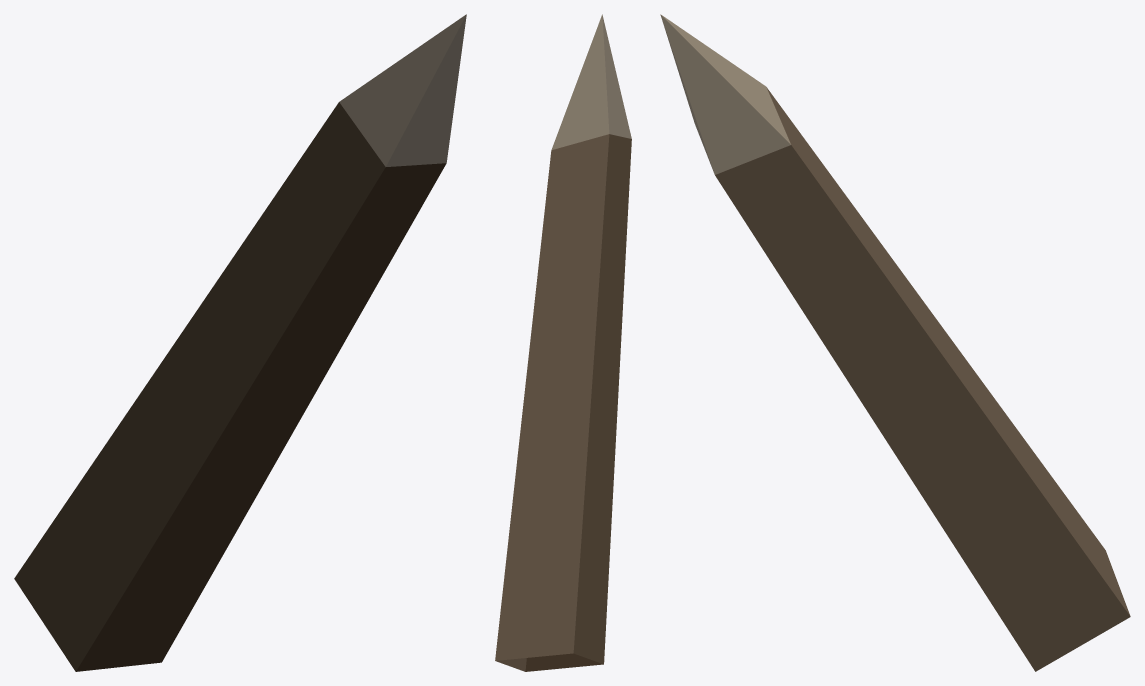
Rendered from SF_Prop_Goblin_Spike_01.fbx.
3 renders of one model, left to right at view 1: azimuth 30°, elevation 25°; view 2: azimuth 150°, elevation 25°; view 3: azimuth 270°, elevation 25°, orthographic. The views are drawn at different scales.
Visible parts, largest first — view 1: SF_Prop_Goblin_Spike_01; view 2: SF_Prop_Goblin_Spike_01; view 3: SF_Prop_Goblin_Spike_01.
Part boxes in pixels (x1,y1,x2,y2): SF_Prop_Goblin_Spike_01: (14,14,466,671); SF_Prop_Goblin_Spike_01: (495,14,631,671); SF_Prop_Goblin_Spike_01: (660,14,1130,671).
Size of the model in its own units: 1.5 by 5.16 by 3.14.
